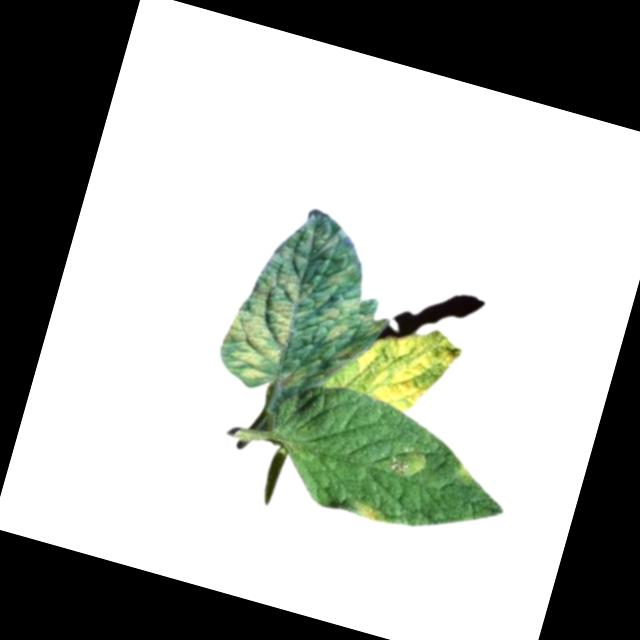Leaf_Mold: (345, 310, 467, 423), (209, 256, 306, 388), (288, 252, 400, 364), (379, 443, 429, 483), (275, 359, 308, 394), (449, 459, 480, 489), (347, 497, 384, 522)
